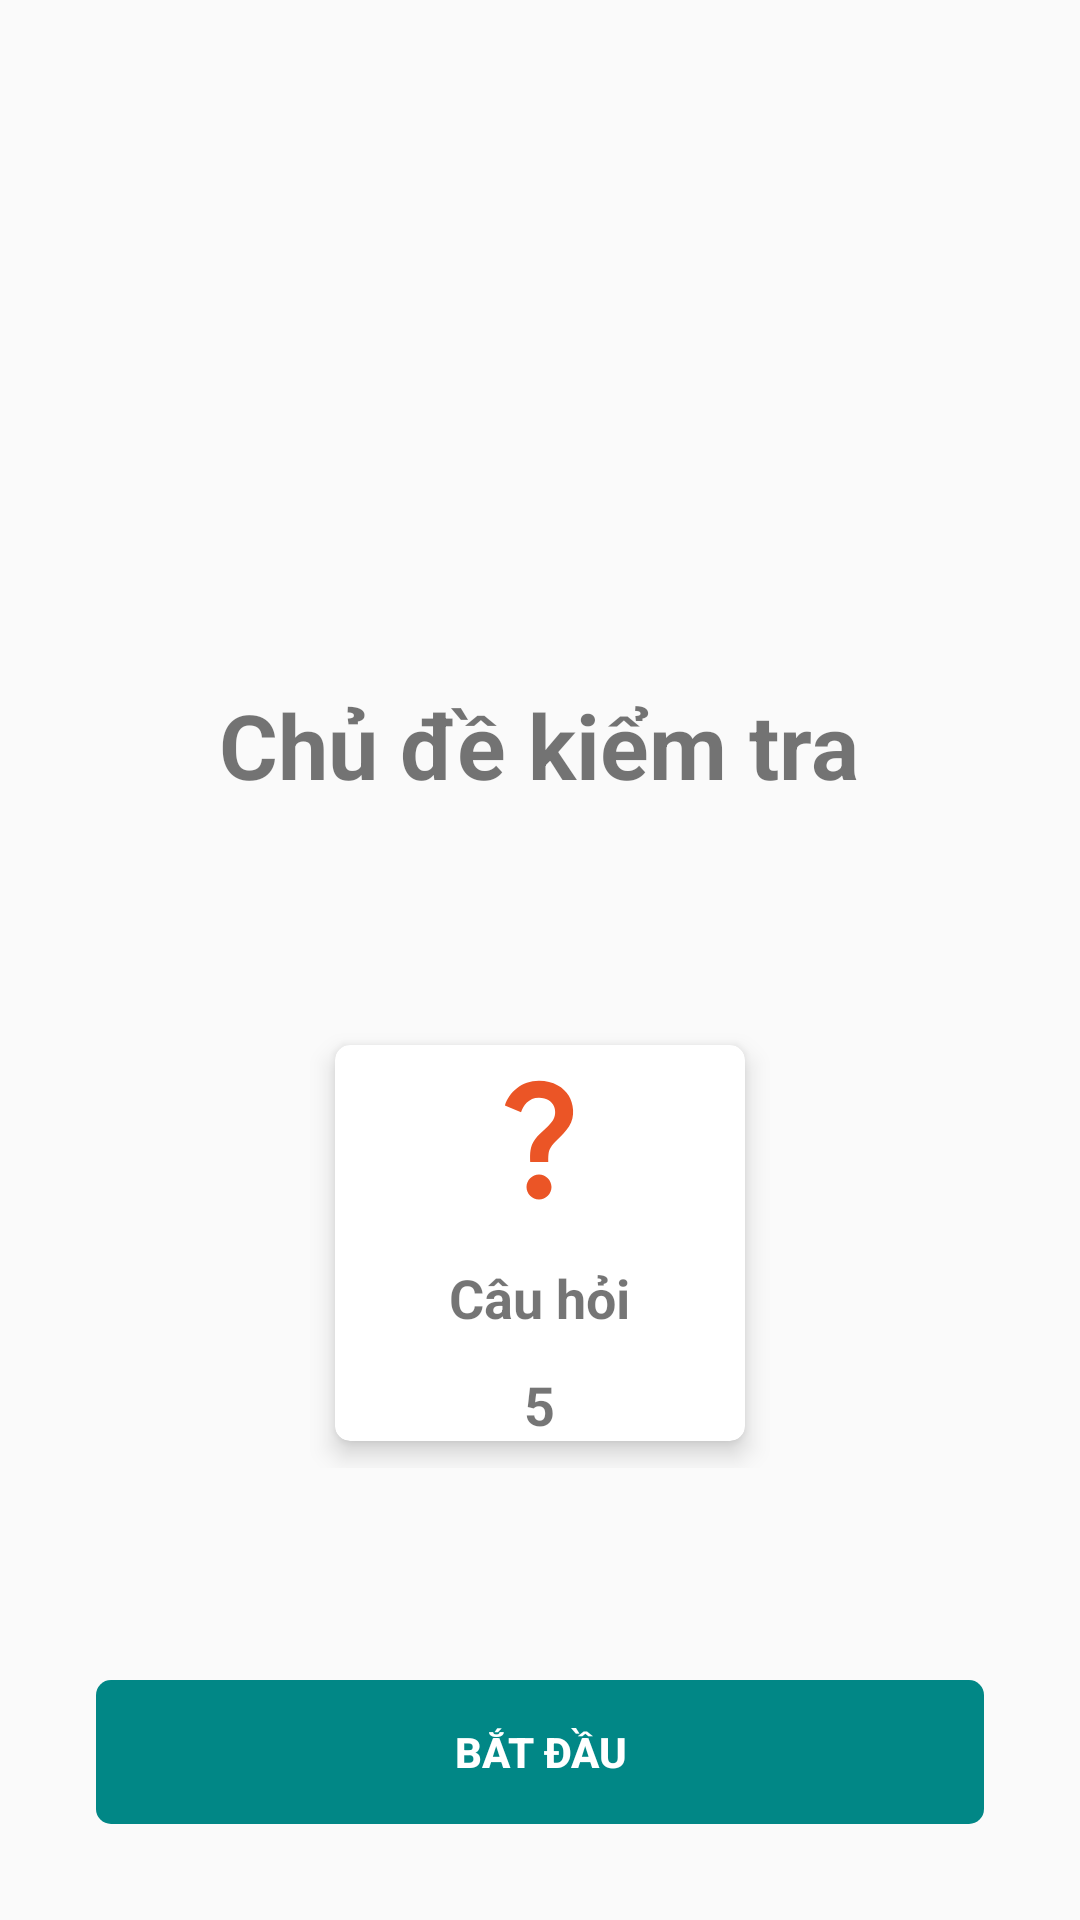

Where to tap for icons on this 1080px×1920px app screen, as point (x, y):
quest: point (539, 1140)
